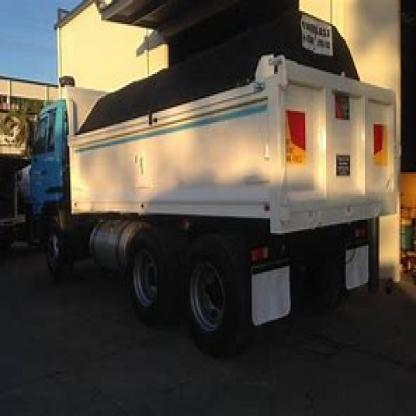dump_truck: (18, 50, 408, 357)
